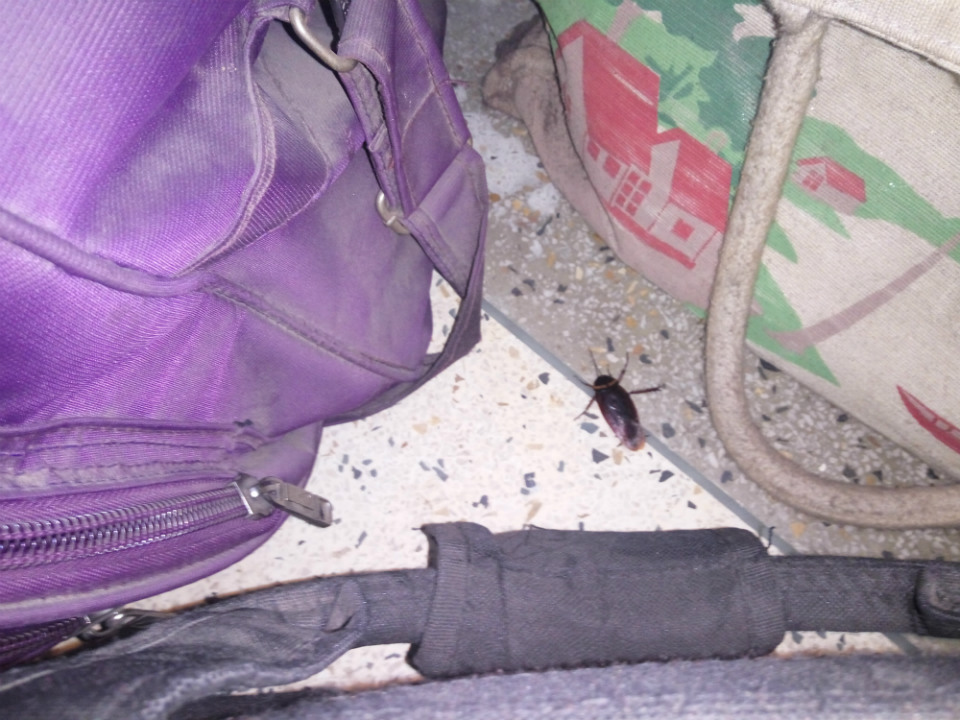cockroach: (504, 307, 660, 472)
